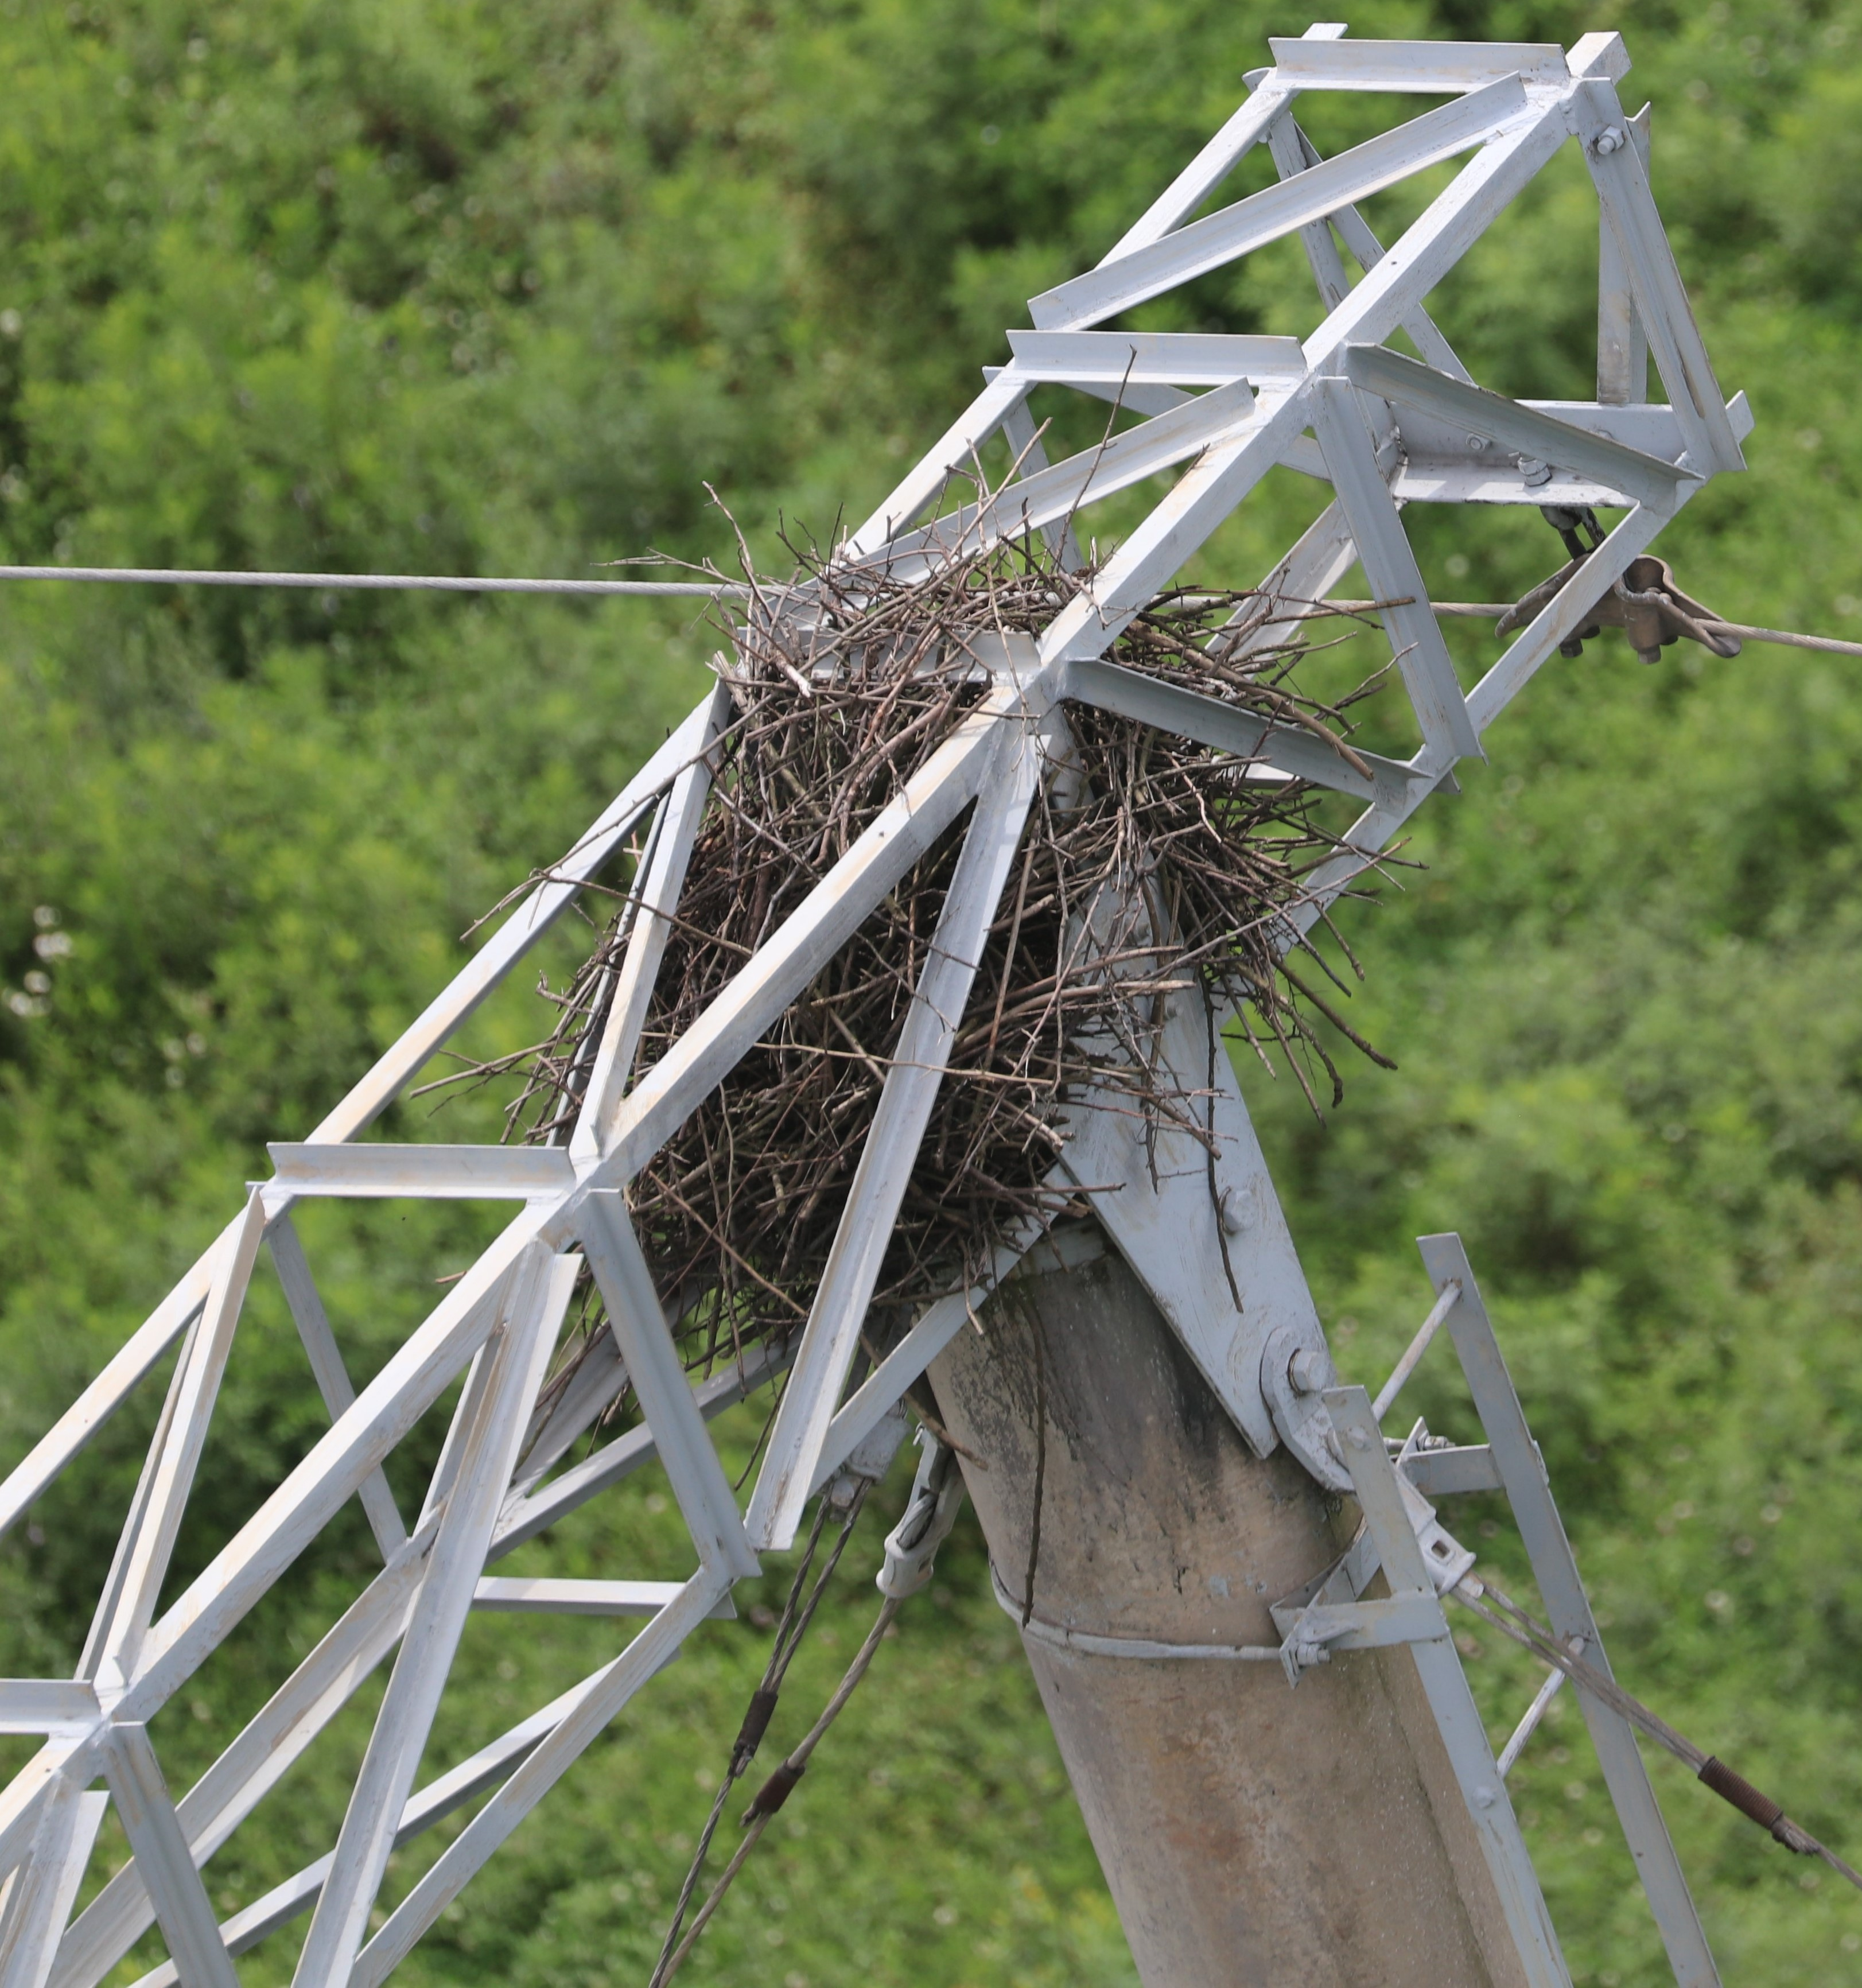niaowo: (472, 504, 1342, 1318)
